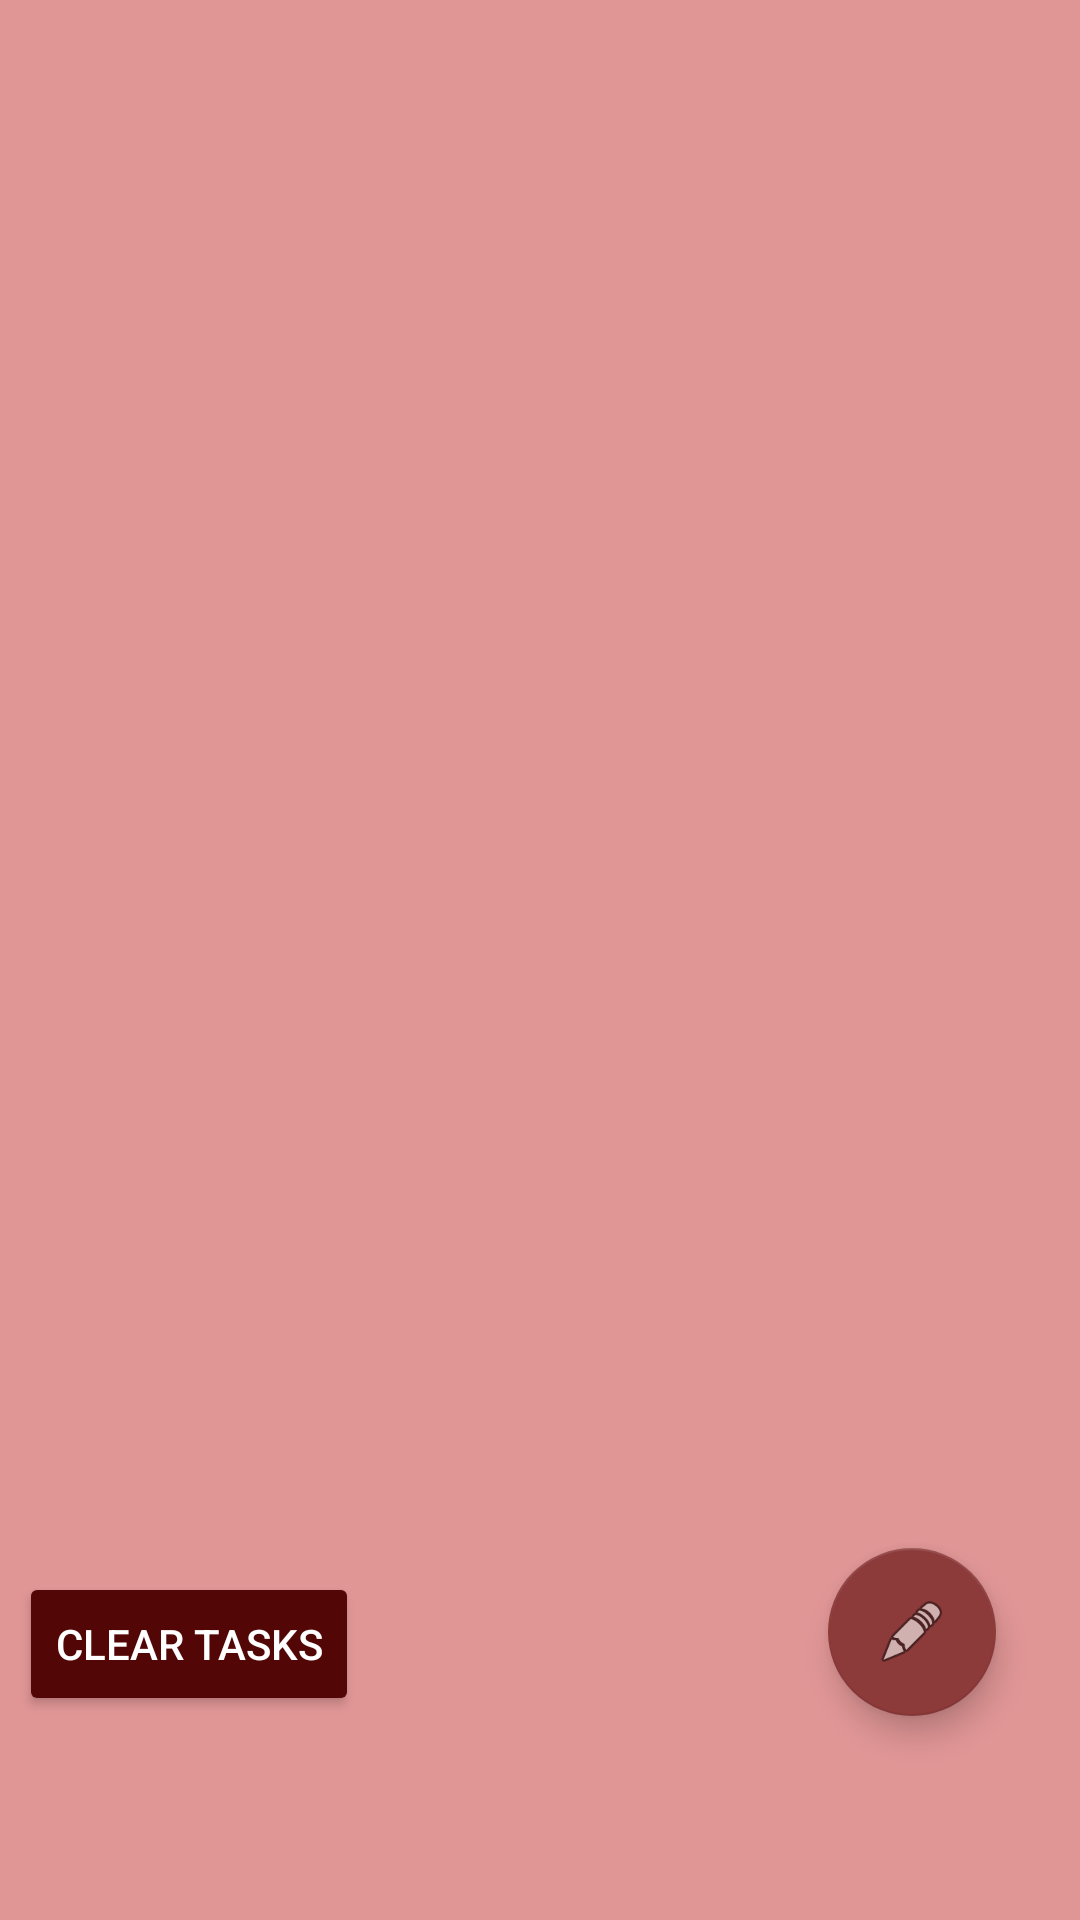

Icons on this 1080*1920 Android screen, each with its box as detection(x1, y1, x2, y2):
edit: detection(828, 1548, 996, 1716)
